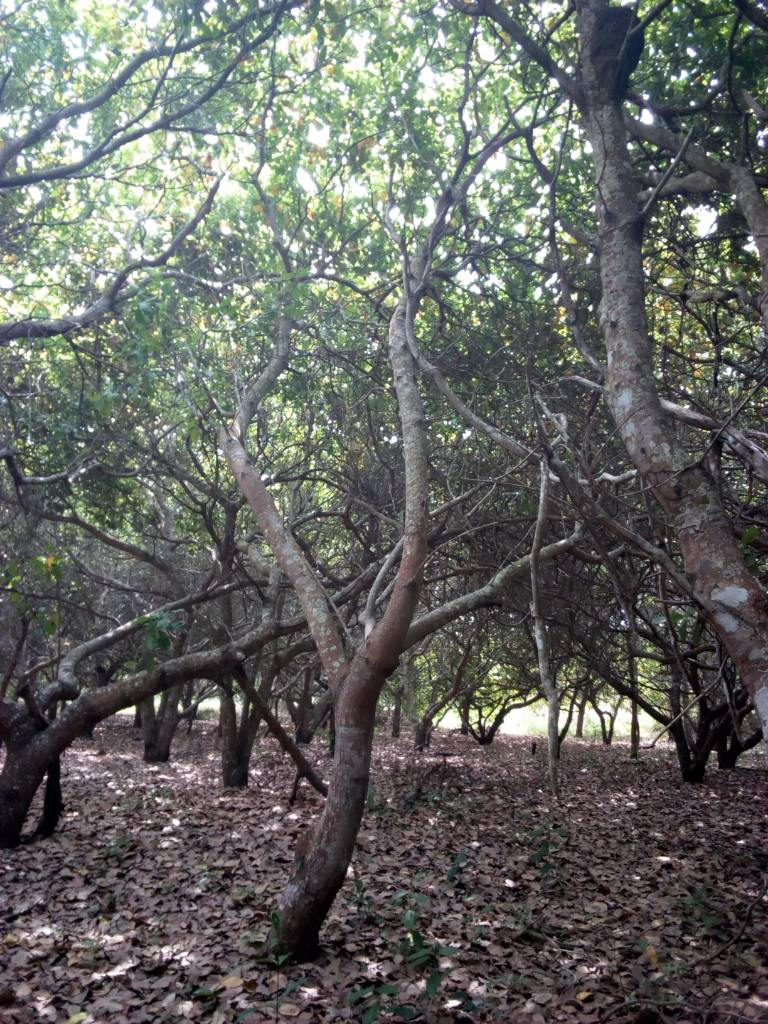Termites: (591, 3, 644, 88)
